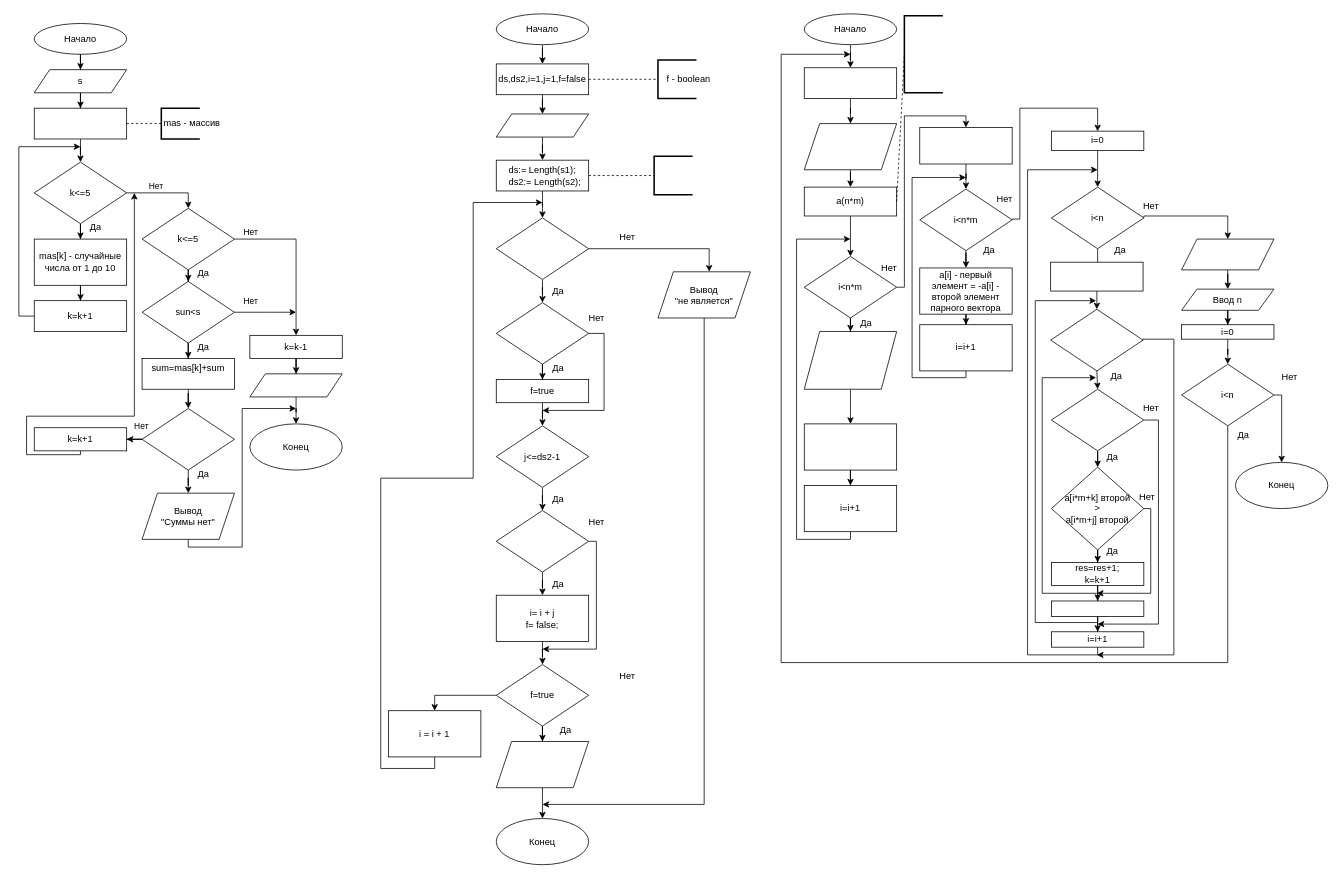
Image size: 1341x878. Some labels were removed from this diagram. The centre of each missing label's shape, as x and y in pixels:
a(n*m) - парный вектор: the point at 923,54
i <= ds - ds2 + 1: the point at 542,248
i=a[i] - второй элемент парного вектора: the point at 850,446
j<m: the point at 1096,340
j=j+1: the point at 1097,608
k = 5 и sum < s: the point at 187,439
k<j: the point at 1097,419
length - длинна строки: the point at 673,175
m,n,i=0,j=0,res=0,k=0: the point at 850,83
mas,sum,k: the point at 80,123
s1,s2: the point at 542,125
s1[i + j] не = s2[j + 1]: the point at 542,541
s1[i]=s2[1]: the point at 542,333
Ввод a[i]- первый элемент парного вектора: the point at 850,360
Ввод n и m: the point at 850,146
Вывод "Является": the point at 542,764
Вывод k: the point at 295,385
Вывод res с новой строки: the point at 1227,254
сортировка a по возрастанию; i=0: the point at 965,145
сортировка от a (m*i) до a(m*i+m): the point at 1096,276
